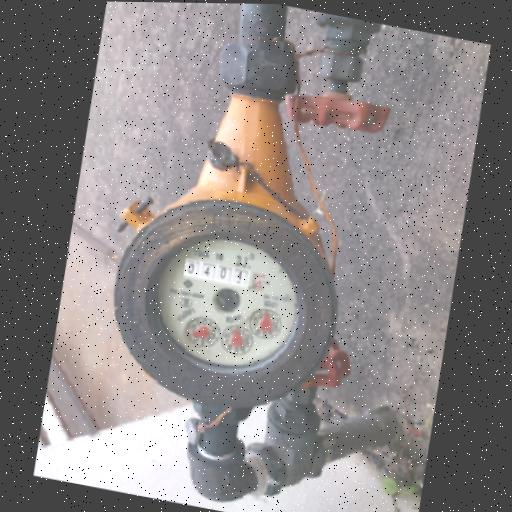0: (185, 260, 200, 276), (217, 266, 231, 282)
4: (233, 269, 248, 285), (201, 263, 215, 279), (251, 273, 263, 290)
border_water_meter_number: (181, 258, 266, 292)
